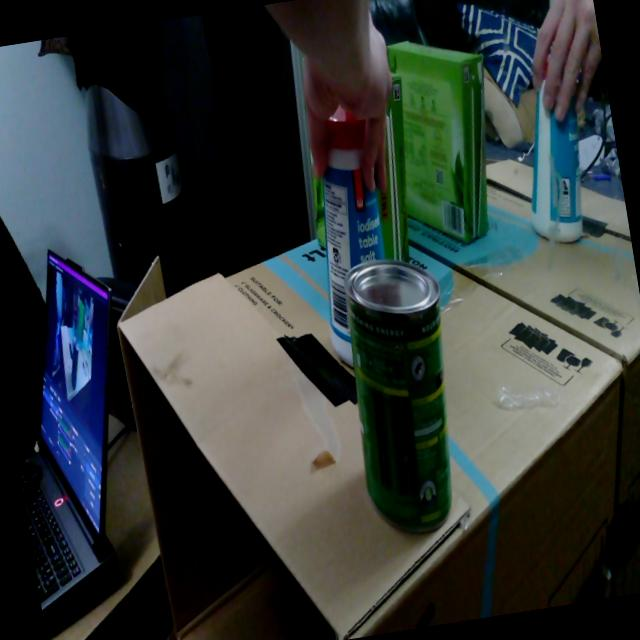nestle_milo_tin: (345, 260, 453, 532)
twinings_greentea_box: (377, 72, 409, 262), (313, 175, 326, 248)
woolworths_salt_bottle: (323, 108, 385, 367)
